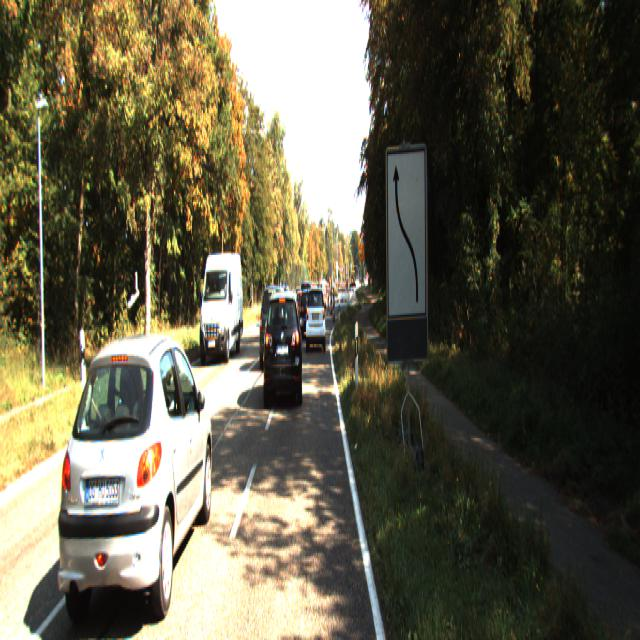Car: (58, 325, 215, 638), (200, 251, 244, 360), (263, 282, 303, 400), (259, 286, 289, 371), (306, 285, 326, 348)
